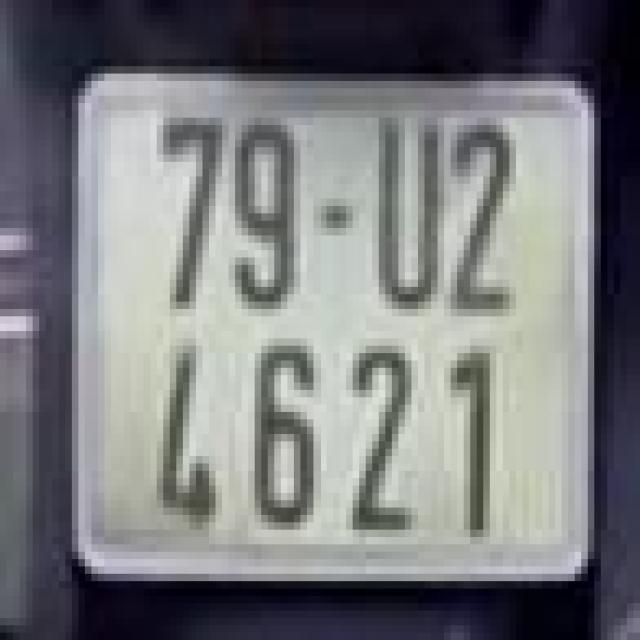1: (434, 338, 506, 559)
2: (333, 338, 418, 544), (448, 110, 520, 324)
4: (140, 328, 232, 534)
6: (242, 338, 326, 544)
7: (144, 99, 228, 320)
9: (228, 103, 314, 316)
U: (362, 103, 441, 316)
